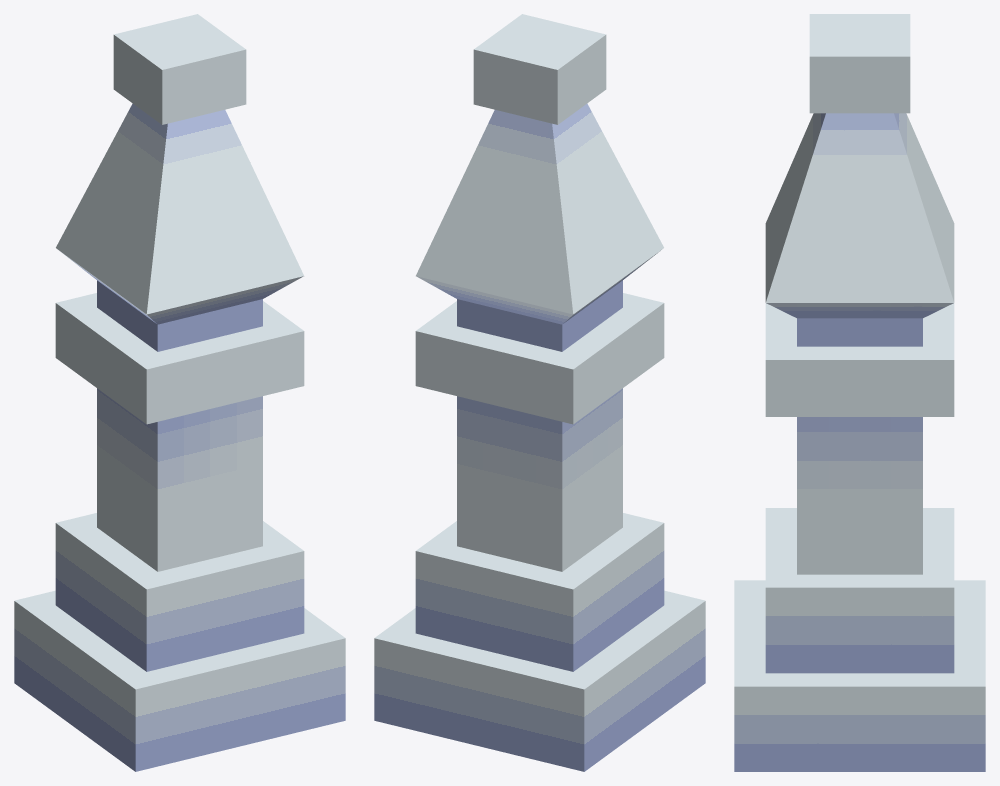
The model's file is Bishop White.gltf.
The picture shows the model from 3 angles, left to right: view 1: azimuth 30°, elevation 25°; view 2: azimuth 150°, elevation 25°; view 3: azimuth 270°, elevation 25°; orthographic projection. The views are drawn at different scales.
Parts seen in each view (by area): view 1: cube (×6); view 2: cube (×6); view 3: cube (×6).
Part boxes in pixels (x1,y1,x2,y2): cube (×6): (14,14,345,771); cube (×6): (374,14,705,771); cube (×6): (734,14,985,771).
Size of the model in its own units: 0.125 by 0.375 by 0.125.
Materials: 1 (1 with a texture image).
